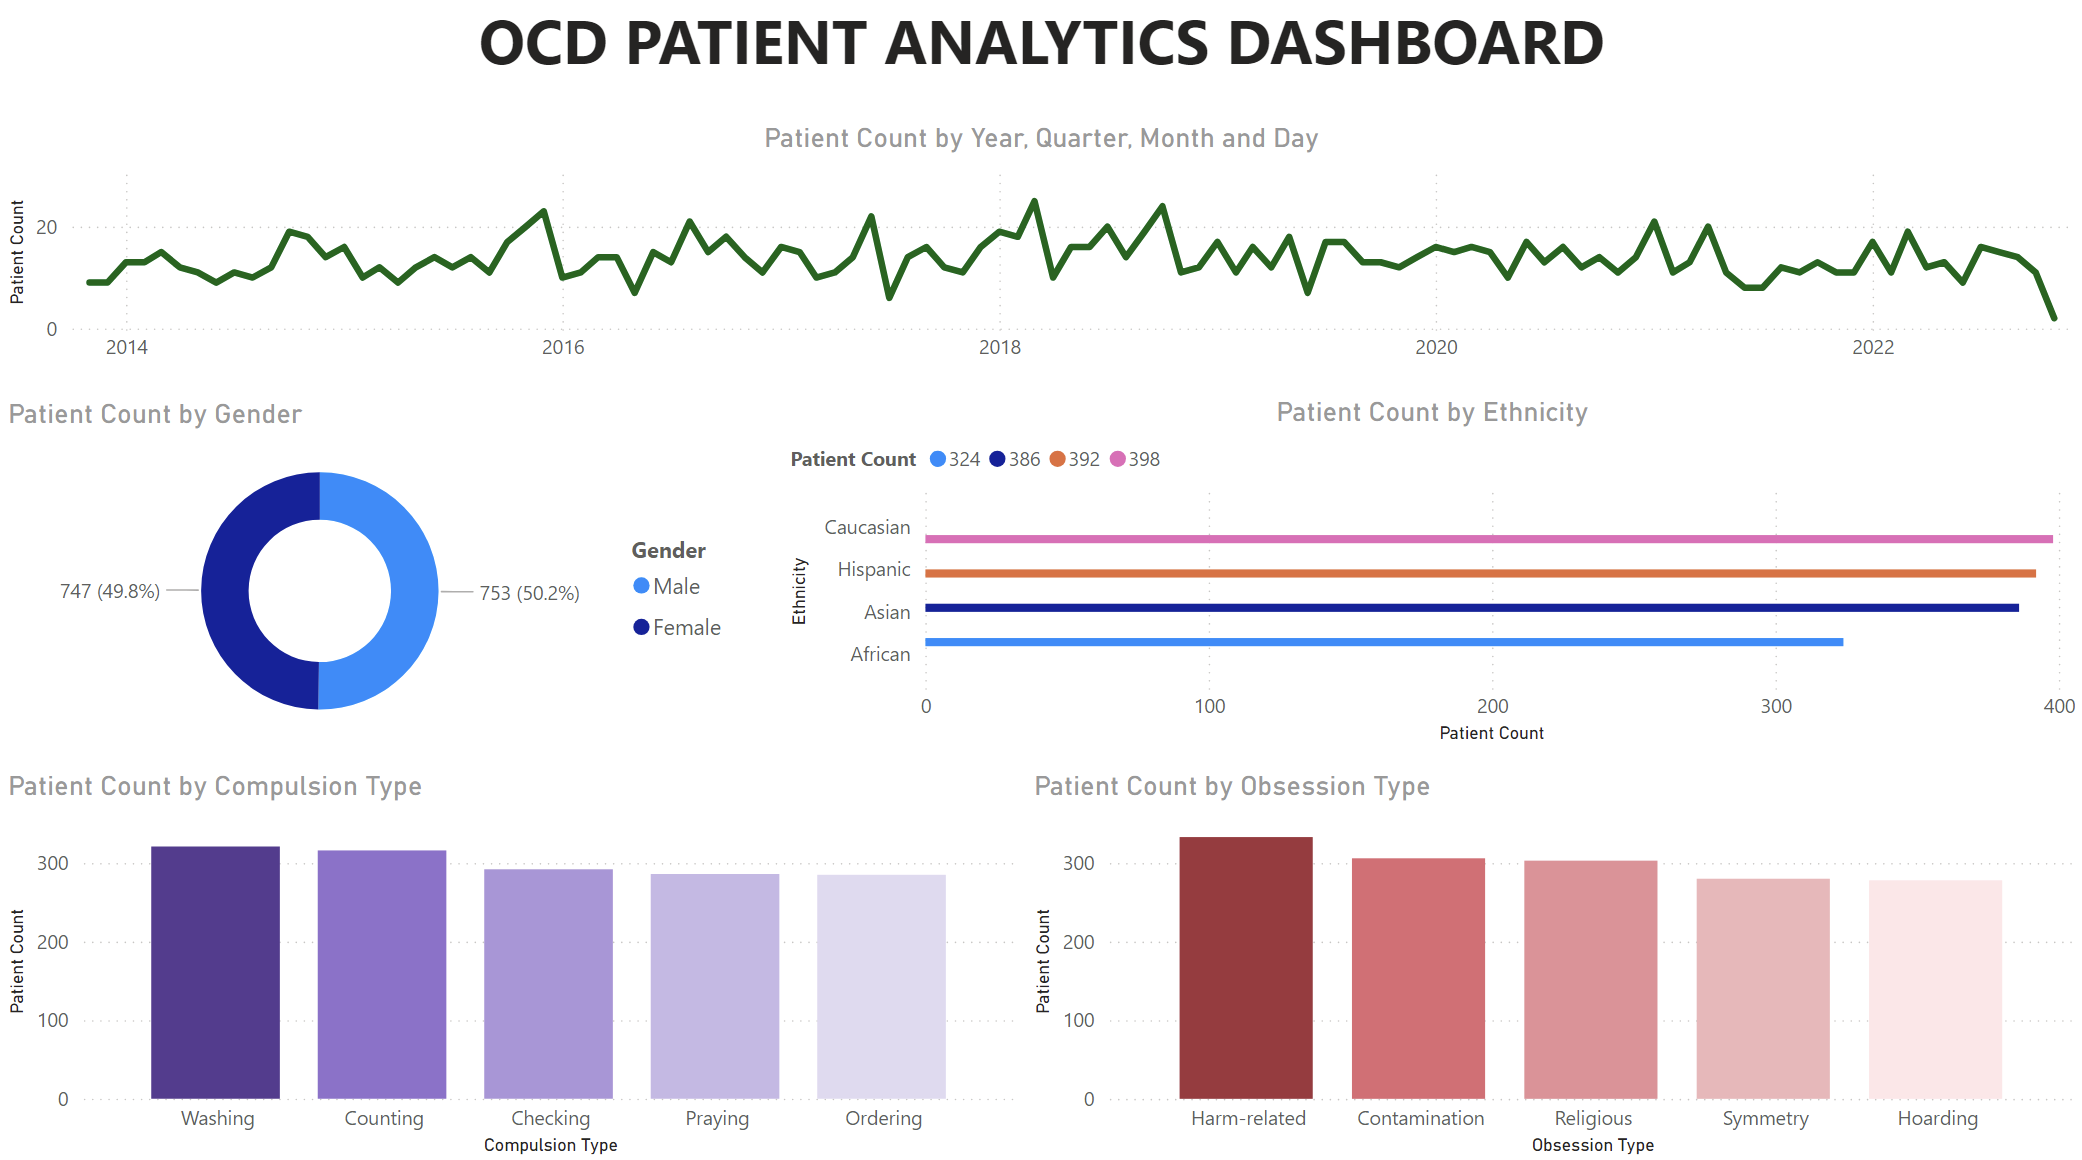

The dashboard page shown, as its layout file describes it:
{"tool":"powerbi","page":{"name":"Page 1","canvas":[1280,720],"ordinal":0},"visuals":[{"type":"textbox","box":[0,0,1280,81.6],"z":0},{"type":"lineChart","title":"Patient Count by Year, Quarter, Month and Day","fields":{"Y":["Sum(3_OCDbyMonth.patient_count)"],"Category":["3_OCDbyMonth.month.Variation.Date Hierarchy.Year","3_OCDbyMonth.month.Variation.Date Hierarchy.Quarter","3_OCDbyMonth.month.Variation.Date Hierarchy.Month","3_OCDbyMonth.month.Variation.Date Hierarchy.Day"]},"box":[0,81.6,1280,156.8],"z":1000},{"type":"donutChart","fields":{"Category":["1 1_AvgObsScoreGender.Gender"],"Y":["Sum(1 1_AvgObsScoreGender.patient_count)"]},"box":[0,251.2,459,218],"z":2000},{"type":"clusteredBarChart","title":" Patient Count by Ethnicity ","fields":{"Category":["2_AvgObsScoreEthnicity.Ethnicity"],"Series":["2_AvgObsScoreEthnicity.patient_count"],"Y":["Sum(2_AvgObsScoreEthnicity.patient_count)"]},"box":[480.6,249.9,799.4,218],"z":3000},{"type":"columnChart","fields":{"Category":["5_CompulsionType.Compulsion_Type"],"Y":["Sum(5_CompulsionType.patient_count)"]},"box":[0,479.4,629.8,241],"z":3001},{"type":"columnChart","fields":{"Category":["4_ObsessionType.Obsession_Type"],"Y":["Sum(4_ObsessionType.patient_count)"]},"box":[630,479,650,241],"z":3002}]}

Visuals, with their boxes in screenshot pixels (x1, y1, x2, y2), scaled from the page's 1280x720 canvas onto the 2082x1160 screenshot:
textbox: select_region(0, 0, 2081, 131)
"Patient Count by Year, Quarter, Month and Day" lineChart: select_region(0, 131, 2081, 384)
donutChart - 1 1_AvgObsScoreGender.Gender x Sum(1 1_AvgObsScoreGender.patient_count): select_region(0, 405, 747, 756)
" Patient Count by Ethnicity " clusteredBarChart: select_region(782, 403, 2081, 754)
columnChart - 5_CompulsionType.Compulsion_Type x Sum(5_CompulsionType.patient_count): select_region(0, 772, 1024, 1159)
columnChart - 4_ObsessionType.Obsession_Type x Sum(4_ObsessionType.patient_count): select_region(1025, 772, 2081, 1159)
